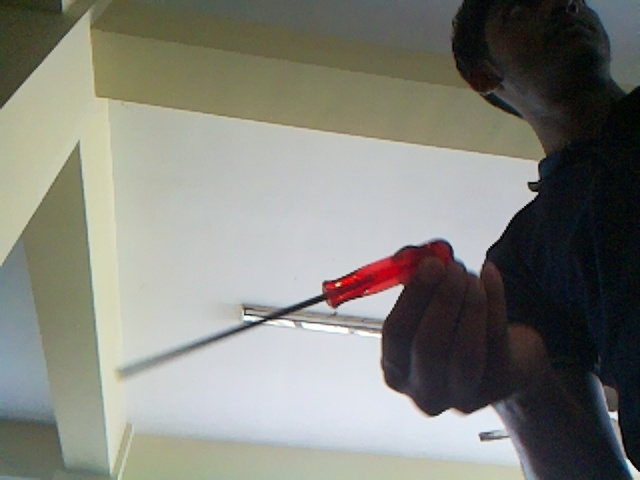redskrew: (127, 238, 453, 353)
